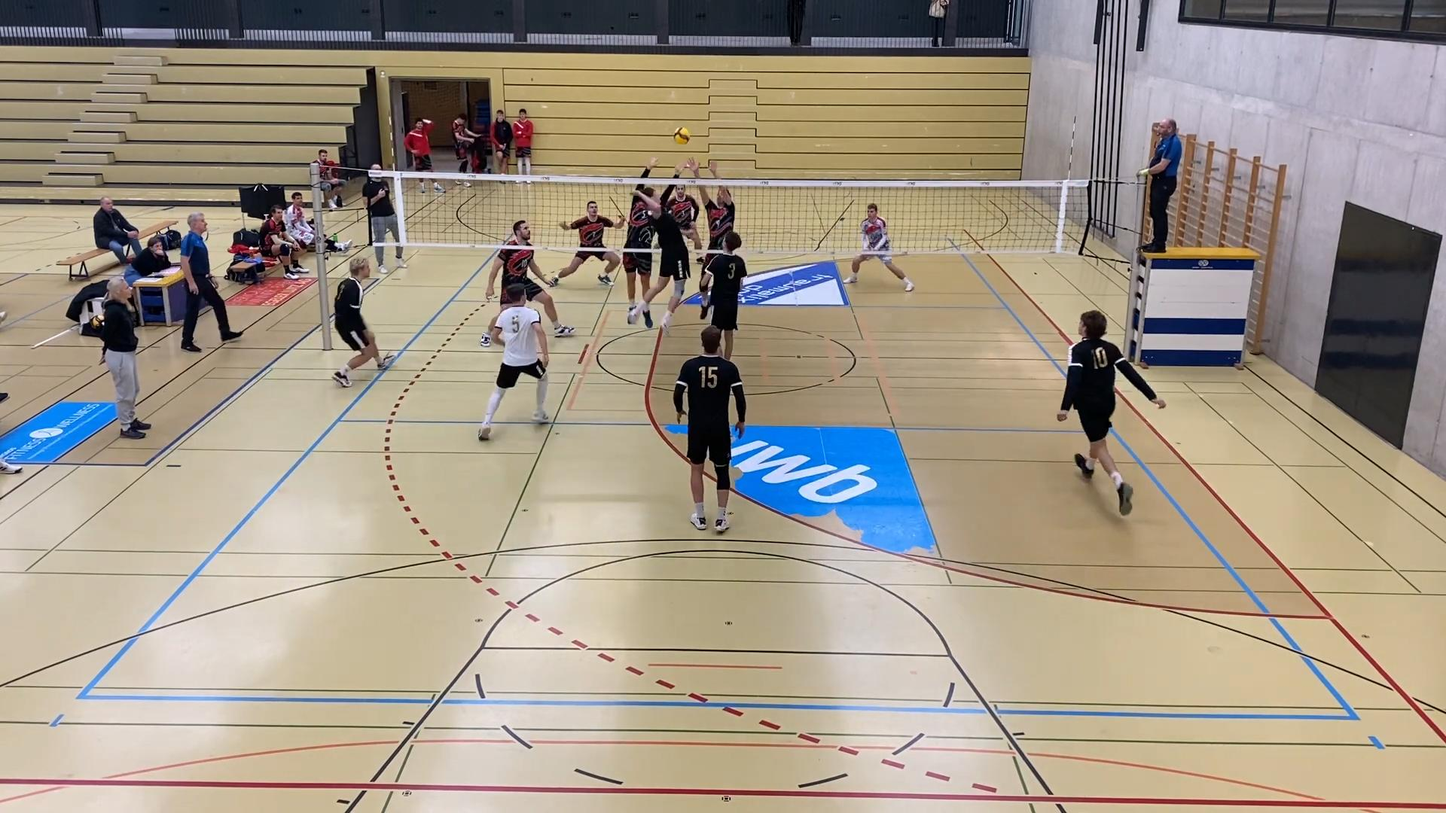attacco: (628, 181, 691, 334)
muro: (620, 163, 673, 329), (688, 156, 736, 240)
